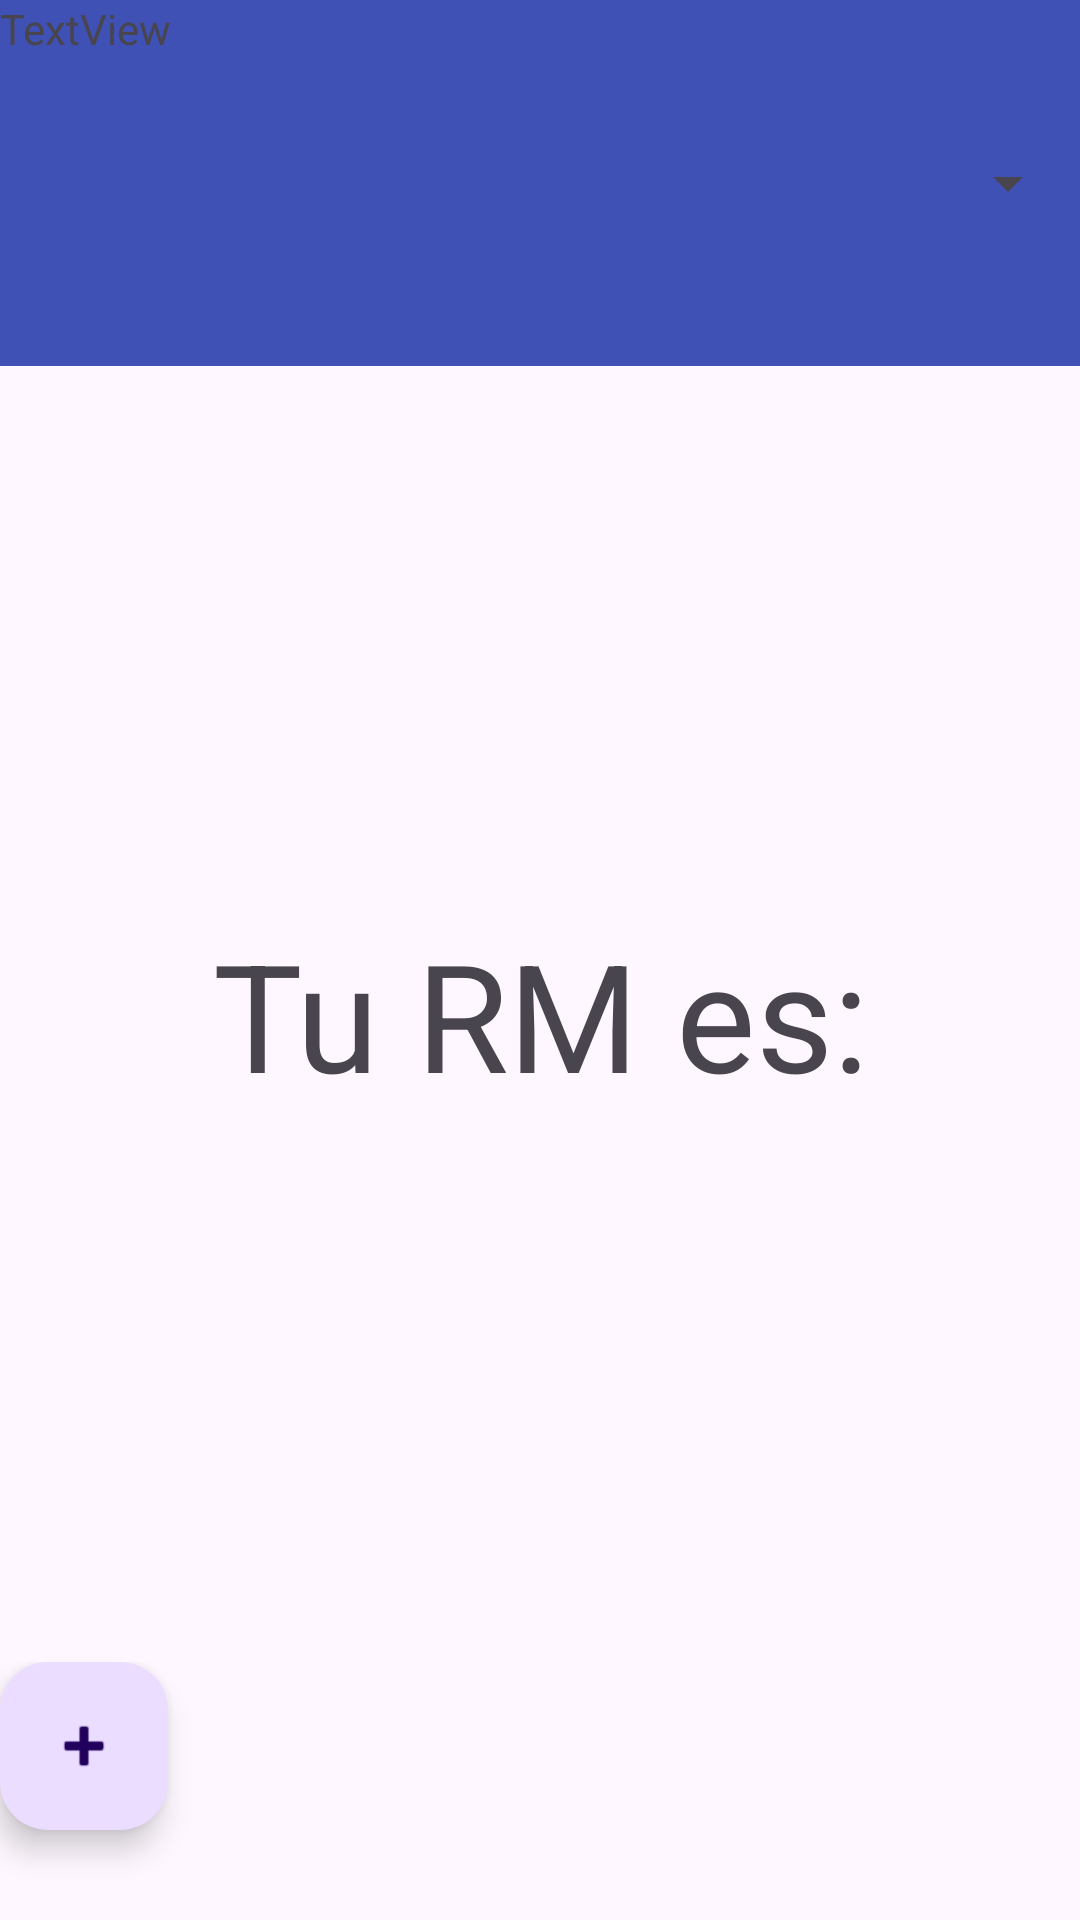

Icon bounding boxes for this 1080w x 1920h phone screenshot, format {"left": x1, "top": y1, "right": x2, "bottom": y2}:
add: {"left": 0, "top": 1662, "right": 168, "bottom": 1830}
